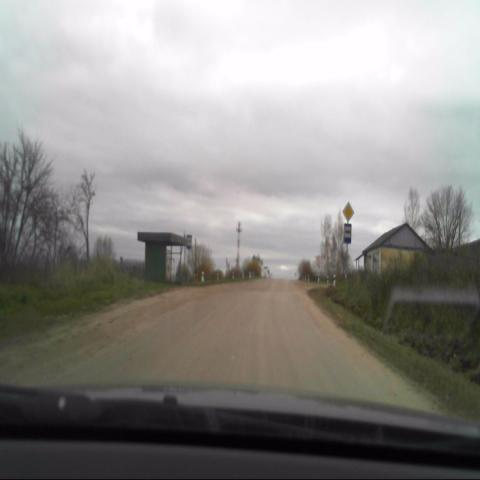2_1: (342, 202, 354, 222)
5_16: (344, 223, 352, 244)
